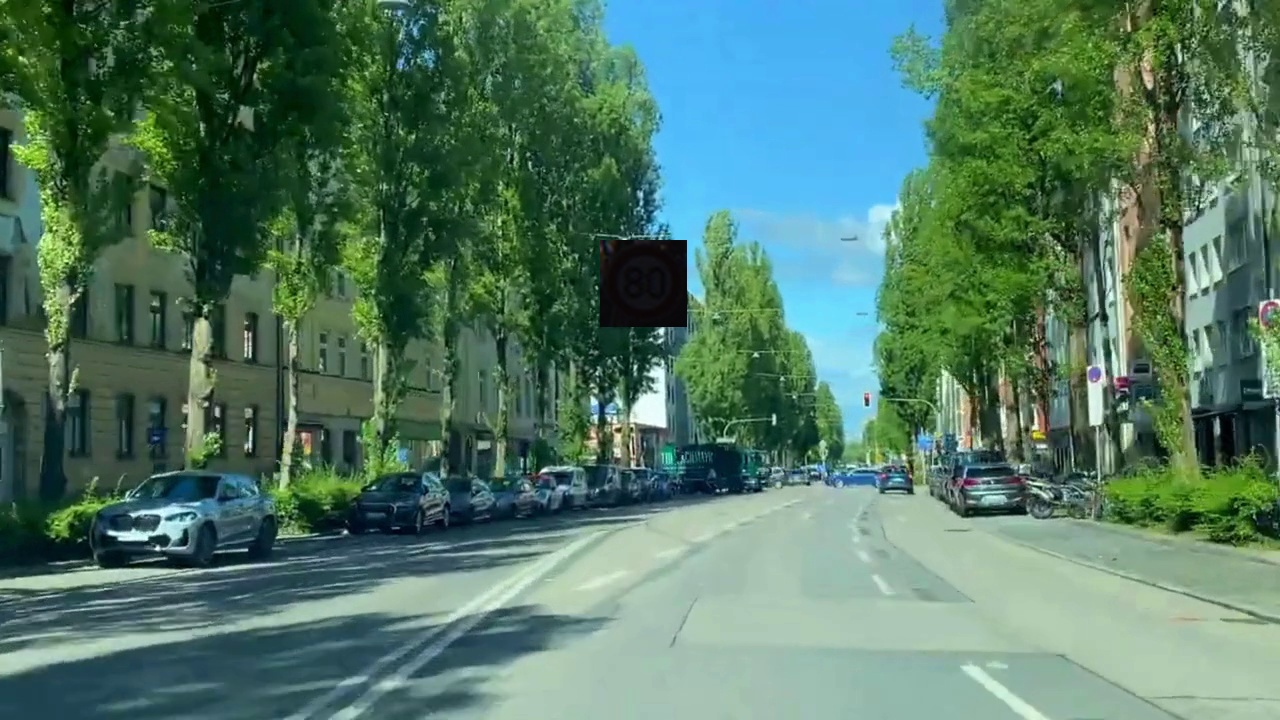Speed 80: (600, 240, 687, 327)
